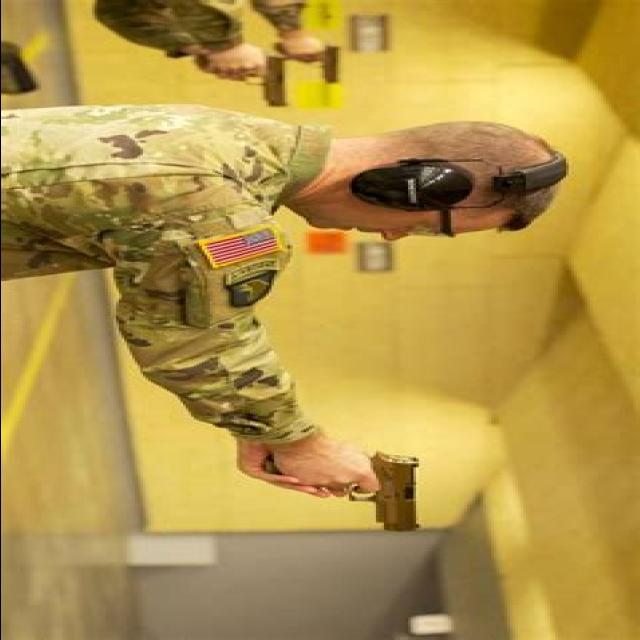weapons: (258, 446, 467, 540)
